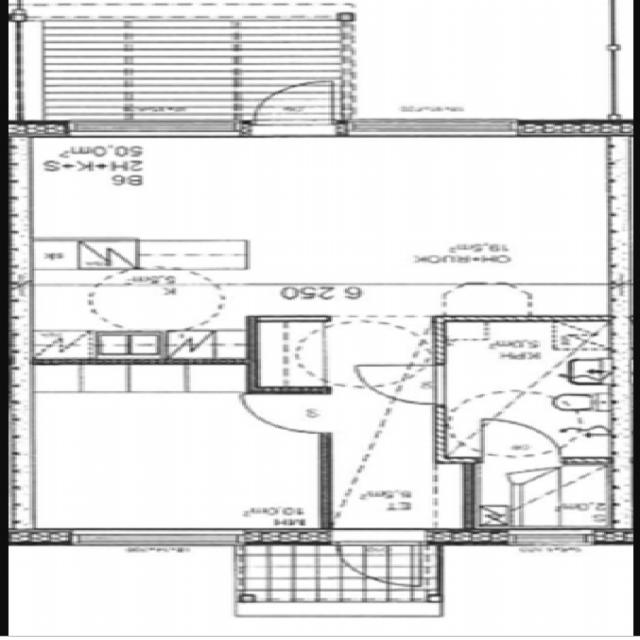door: (253, 80, 335, 137), (338, 530, 421, 584), (356, 365, 446, 404), (485, 420, 560, 464), (246, 395, 332, 432)
